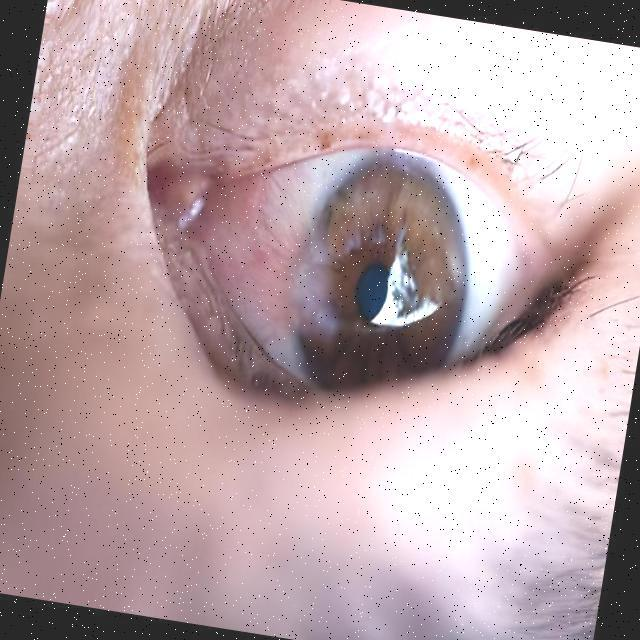Pterygium: (167, 150, 374, 367)
